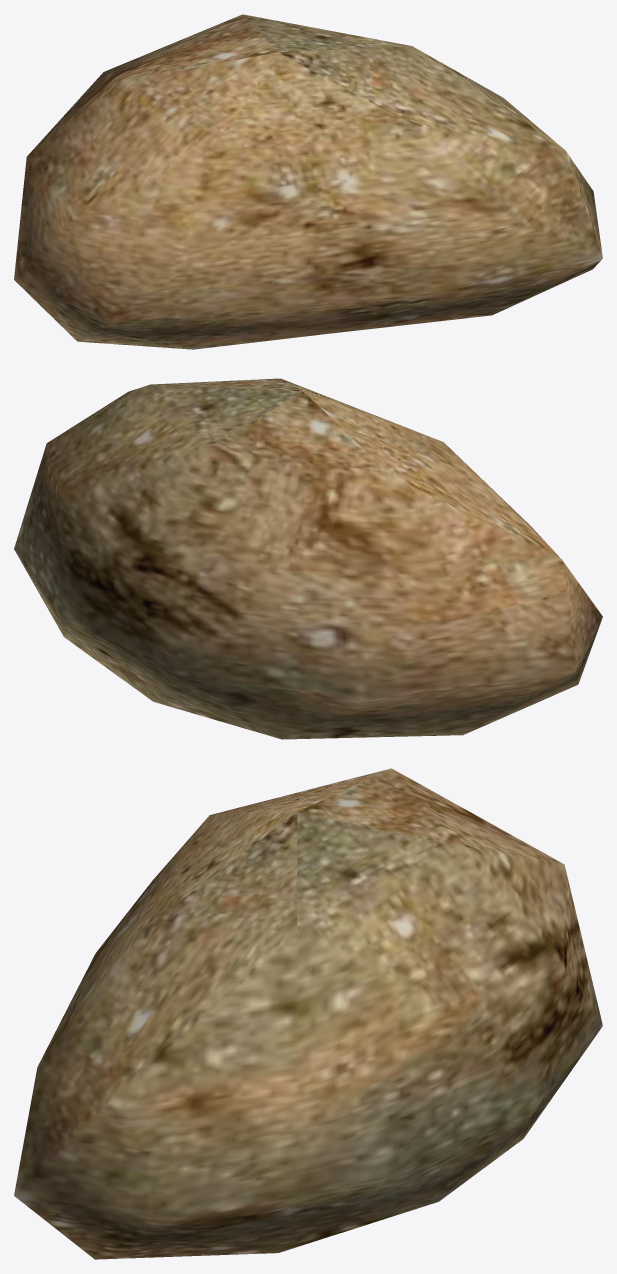
Rendered from LiftingRockGroup.FBX.
3 renders of one model, top to bottom at view 1: azimuth 30°, elevation 25°; view 2: azimuth 150°, elevation 25°; view 3: azimuth 270°, elevation 25°, orthographic. The views are drawn at different scales.
Visible parts, largest first — view 1: Rock; view 2: Rock; view 3: Rock.
Part boxes in pixels (left/top/right/bottom): Rock: left=14, top=14, right=602, bottom=349; Rock: left=14, top=378, right=602, bottom=739; Rock: left=14, top=768, right=602, bottom=1259.
Size of the model in its own units: 120 by 53.87 by 87.79.
